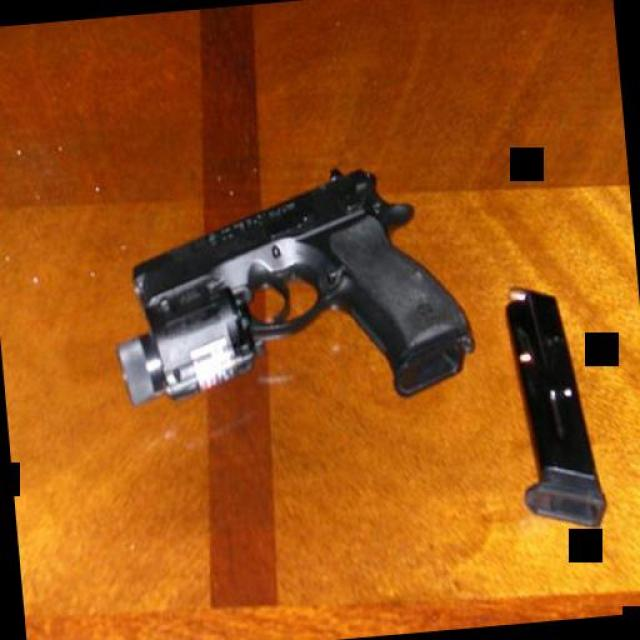gun: (94, 152, 478, 422)
